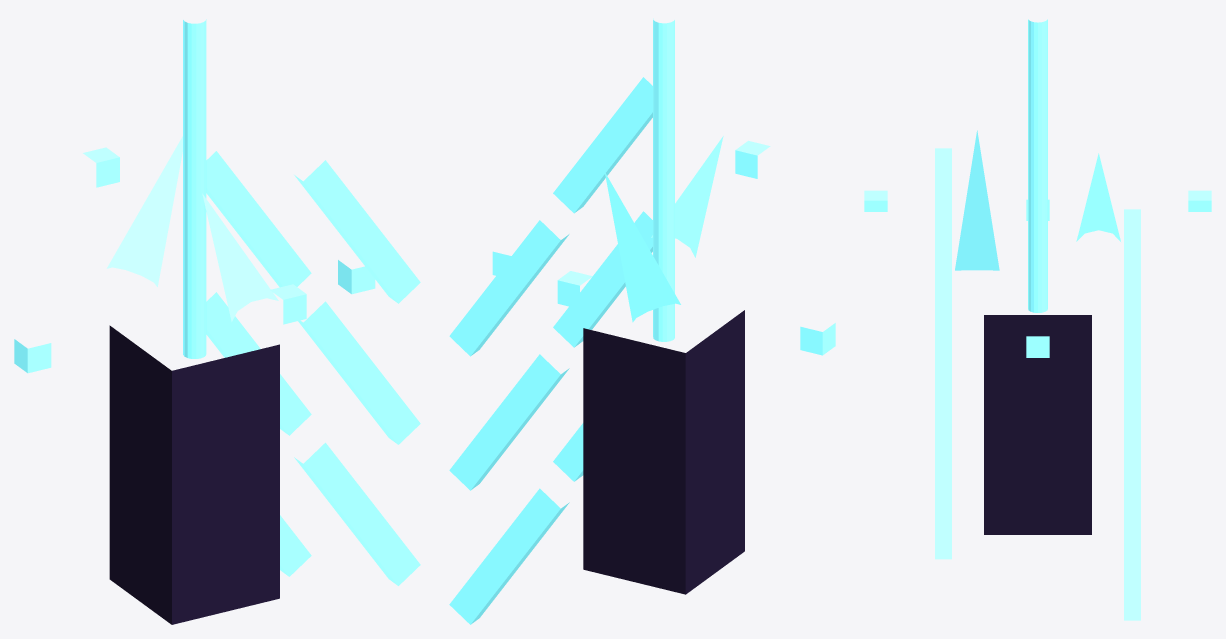
Rendered from leshrac.glb.
The picture shows the model from 3 angles, left to right: view 1: azimuth 30°, elevation 25°; view 2: azimuth 150°, elevation 25°; view 3: azimuth 270°, elevation 25°; orthographic projection. The views are drawn at different scales.
Visible parts, largest first — view 1: leshrac-bone-torso, leshrac-torment-halo, leshrac-arc-1, leshrac-arc-3, leshrac-arc-5, leshrac-arc-4, leshrac-horn-r, leshrac-horn-l, leshrac-arc-2, leshrac-arc-0, leshrac-flair-mote-2, leshrac-flair-mote-1 (+2 smaller); view 2: leshrac-bone-torso, leshrac-torment-halo, leshrac-arc-2, leshrac-arc-0, leshrac-arc-4, leshrac-arc-5, leshrac-horn-r, leshrac-arc-3, leshrac-horn-l, leshrac-arc-1, leshrac-flair-mote-2, leshrac-flair-mote-1 (+1 smaller); view 3: leshrac-bone-torso, leshrac-torment-halo, leshrac-horn-l, leshrac-arc-4, leshrac-arc-5, leshrac-arc-0, leshrac-arc-1, leshrac-arc-2, leshrac-arc-3, leshrac-horn-r, leshrac-flair-mote-0, leshrac-flair-mote-1 (+1 smaller).
Part boxes in pixels (bbox=[...]): leshrac-bone-torso: bbox=[109, 325, 279, 624]; leshrac-torment-halo: bbox=[183, 19, 206, 358]; leshrac-arc-1: bbox=[294, 442, 420, 585]; leshrac-arc-3: bbox=[298, 301, 420, 444]; leshrac-arc-5: bbox=[294, 160, 420, 303]; leshrac-arc-4: bbox=[206, 151, 311, 287]; leshrac-horn-r: bbox=[106, 136, 182, 286]; leshrac-horn-l: bbox=[202, 193, 278, 321]; leshrac-arc-2: bbox=[206, 292, 311, 435]; leshrac-arc-0: bbox=[280, 515, 311, 576]; leshrac-flair-mote-2: bbox=[14, 339, 51, 373]; leshrac-flair-mote-1: bbox=[270, 284, 306, 324]; leshrac-bone-torso: bbox=[583, 310, 744, 594]; leshrac-torment-halo: bbox=[653, 18, 674, 341]; leshrac-arc-2: bbox=[449, 354, 569, 490]; leshrac-arc-0: bbox=[449, 488, 569, 624]; leshrac-arc-4: bbox=[449, 220, 569, 356]; leshrac-arc-5: bbox=[553, 77, 652, 213]; leshrac-horn-r: bbox=[604, 172, 680, 322]; leshrac-arc-3: bbox=[553, 211, 652, 347]; leshrac-horn-l: bbox=[651, 136, 723, 257]; leshrac-arc-1: bbox=[553, 423, 583, 481]; leshrac-flair-mote-2: bbox=[800, 323, 835, 355]; leshrac-flair-mote-1: bbox=[735, 140, 770, 178]; leshrac-bone-torso: bbox=[984, 315, 1091, 534]; leshrac-torment-halo: bbox=[1028, 19, 1047, 312]; leshrac-horn-l: bbox=[955, 130, 999, 270]; leshrac-arc-4: bbox=[1124, 209, 1140, 375]; leshrac-arc-5: bbox=[935, 148, 951, 314]; leshrac-arc-0: bbox=[1124, 498, 1140, 620]; leshrac-arc-1: bbox=[935, 437, 951, 559]; leshrac-arc-2: bbox=[1124, 376, 1140, 498]; leshrac-arc-3: bbox=[935, 314, 951, 436]; leshrac-horn-r: bbox=[1076, 153, 1120, 241]; leshrac-flair-mote-0: bbox=[1026, 336, 1049, 357]; leshrac-flair-mote-1: bbox=[864, 190, 887, 211].
Bounding box in the file's own units: 1.03 × 1.78 × 1.03.
